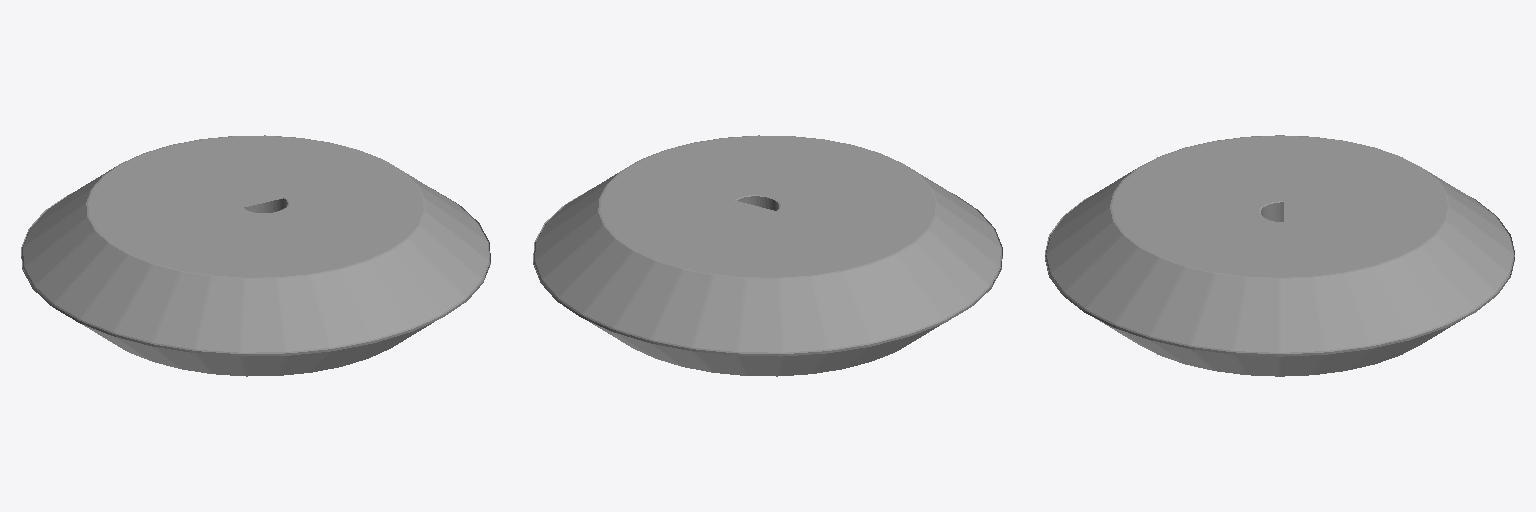
Rendered from gruz2o.obj.
3 renders of one model, left to right at view 1: azimuth 30°, elevation 25°; view 2: azimuth 150°, elevation 25°; view 3: azimuth 270°, elevation 25°, orthographic.
Parts seen in each view (by area): view 1: Cylinder.017; view 2: Cylinder.017; view 3: Cylinder.017.
Boxes of the visible parts, <box> form: Cylinder.017: <box>21,135,490,376</box>; Cylinder.017: <box>533,135,1002,376</box>; Cylinder.017: <box>1045,135,1514,376</box>.
Bounding box in the file's own units: 0.3272 × 0.0754 × 0.3272.